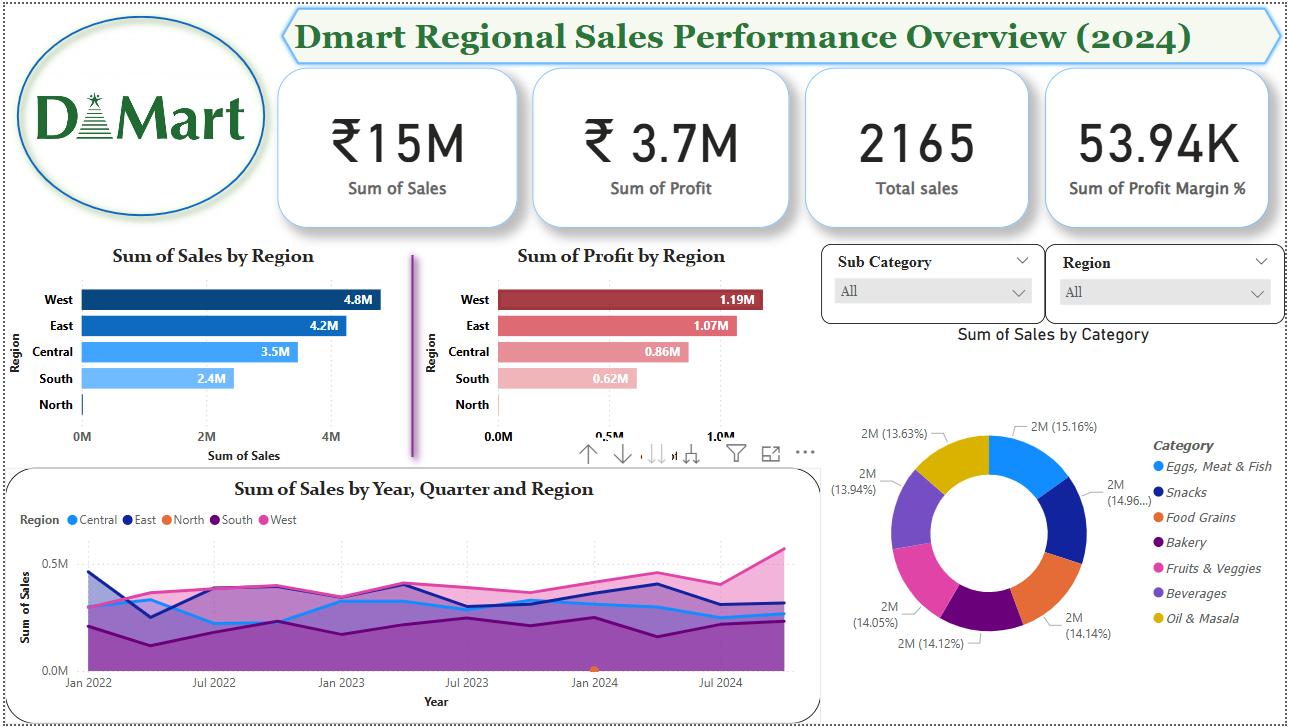

The page's visual inventory and layout, read from the dashboard file:
{"tool":"powerbi","page":{"name":"Page 3","canvas":[1280,720],"ordinal":1},"visuals":[{"type":"barChart","fields":{"Category":["Dmart_Retail_Sales.Region"],"Y":["Sum(Dmart_Retail_Sales.Sales)"]},"box":[0,240,416,224],"z":0},{"type":"barChart","fields":{"Category":["Dmart_Retail_Sales.Region"],"Y":["Sum(Dmart_Retail_Sales.Profit)"]},"box":[416,240,400,224],"z":1000},{"type":"pieChart","fields":{"Y":["Sum(Dmart_Retail_Sales.Sales)"],"Category":["Dmart_Retail_Sales.Category"]},"box":[816,320,464,400],"z":2000},{"type":"areaChart","fields":{"Category":["Dmart_Retail_Sales.Order Date.Variation.Date Hierarchy.Year","Dmart_Retail_Sales.Order Date.Variation.Date Hierarchy.Quarter","Dmart_Retail_Sales.Order Date.Variation.Date Hierarchy.Month","Dmart_Retail_Sales.Order Date.Variation.Date Hierarchy.Day"],"Y":["Sum(Dmart_Retail_Sales.Sales)"],"Series":["Dmart_Retail_Sales.Region"]},"box":[0,464,816,256],"z":3000},{"type":"card","fields":{"Values":["Sum(Dmart_Retail_Sales.Sales)"]},"box":[272,64,240,160],"z":4000},{"type":"card","fields":{"Values":["Sum(Dmart_Retail_Sales.Profit)"]},"box":[528,64,257,160],"z":5000},{"type":"card","fields":{"Values":["Sum(Dmart_Retail_Sales.Profit Margin %)"]},"box":[1040,64,224,160],"z":6000},{"type":"card","fields":{"Values":["Dmart_Retail_Sales.Total sales"]},"box":[800,64,224,160],"z":7000},{"type":"slicer","fields":{"Values":["Dmart_Retail_Sales.Sub Category"]},"box":[816,240,224,80],"z":8000},{"type":"slicer","fields":{"Values":["Dmart_Retail_Sales.Region"]},"box":[1040,240,240,80],"z":9000},{"type":"shape","box":[368,240,80,224],"z":10000},{"type":"shape","box":[272,0,1008,64],"z":11000},{"type":"image","box":[0,0,272,224],"z":12000},{"type":"shape","box":[0,0,272,224],"z":13000}]}

Visuals, with their boxes in screenshot pixels (x1, y1, x2, y2), scaled from the page's 1280x720 canvas onto the 1292x727 screenshot:
barChart - Dmart_Retail_Sales.Region x Sum(Dmart_Retail_Sales.Sales): select_region(0, 242, 420, 469)
barChart - Dmart_Retail_Sales.Region x Sum(Dmart_Retail_Sales.Profit): select_region(420, 242, 824, 469)
pieChart - Sum(Dmart_Retail_Sales.Sales) x Dmart_Retail_Sales.Category: select_region(824, 323, 1291, 726)
areaChart - Dmart_Retail_Sales.Order Date.Variation.Date Hierarchy.Year x Dmart_Retail_Sales.Order Date.Variation.Date Hierarchy.Quarter: select_region(0, 469, 824, 726)
card - Sum(Dmart_Retail_Sales.Sales): select_region(275, 65, 517, 226)
card - Sum(Dmart_Retail_Sales.Profit): select_region(533, 65, 792, 226)
card - Sum(Dmart_Retail_Sales.Profit Margin %): select_region(1050, 65, 1276, 226)
card - Dmart_Retail_Sales.Total sales: select_region(807, 65, 1034, 226)
slicer - Dmart_Retail_Sales.Sub Category: select_region(824, 242, 1050, 323)
slicer - Dmart_Retail_Sales.Region: select_region(1050, 242, 1291, 323)
shape: select_region(371, 242, 452, 469)
shape: select_region(275, 0, 1291, 65)
image: select_region(0, 0, 275, 226)
shape: select_region(0, 0, 275, 226)
